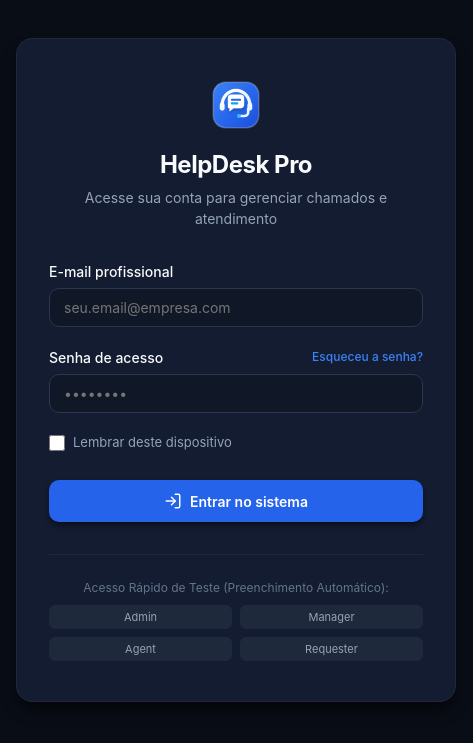
Test: LoginPage Component › shows validation errors when submitting invalid email
In the field labelled "E-mail profissional": (236,307) [49,288,423,327], type "not-an-email"
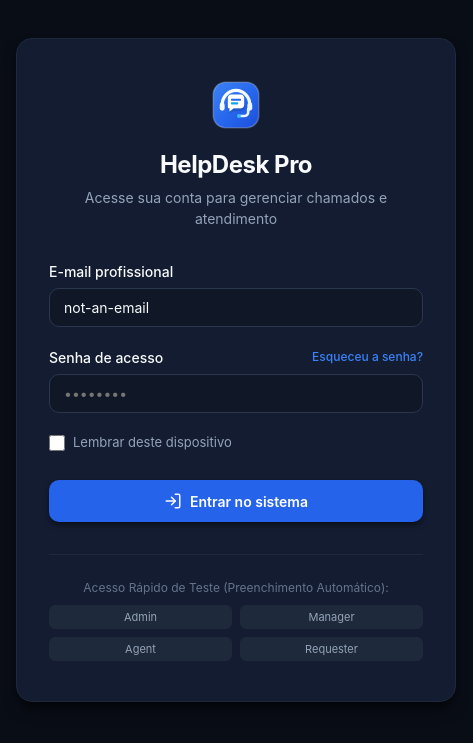
Submit the form named "Entrar no sistema", box [49,261,423,522]
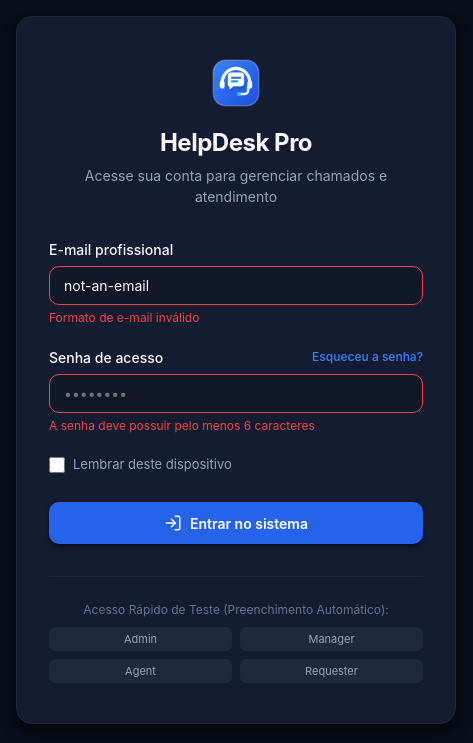
Result: the text "Formato de e-mail inválido" is shown at [49,310,199,325]
